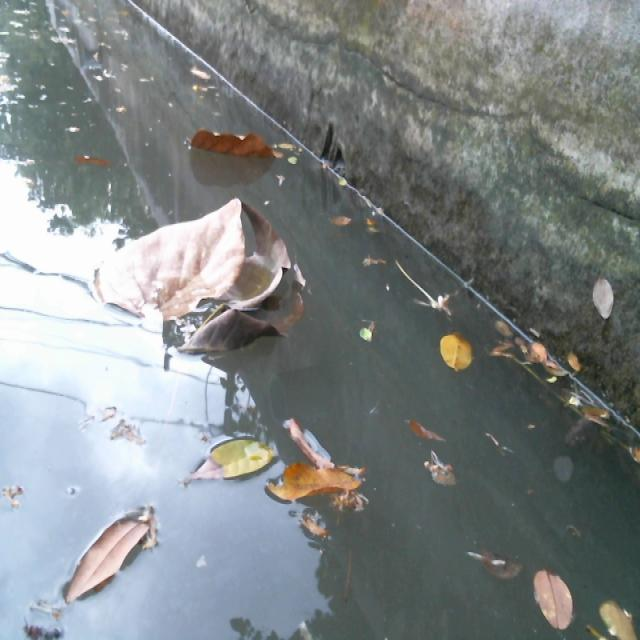Big-leaf: (88, 199, 325, 379), (275, 426, 378, 530), (183, 122, 304, 168)
Small-leaf: (65, 491, 162, 613), (192, 439, 285, 490), (533, 560, 587, 640), (402, 412, 461, 459), (434, 329, 480, 370), (601, 601, 640, 640), (71, 147, 115, 177), (182, 62, 217, 98), (581, 395, 613, 430), (322, 213, 363, 235), (362, 315, 383, 356), (564, 347, 585, 381), (532, 330, 551, 364)
